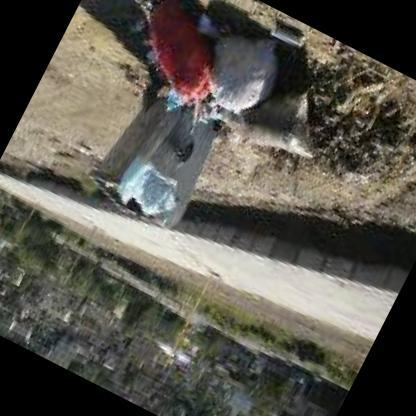Garbage: (115, 0, 237, 121), (109, 146, 183, 226), (260, 10, 308, 56)
